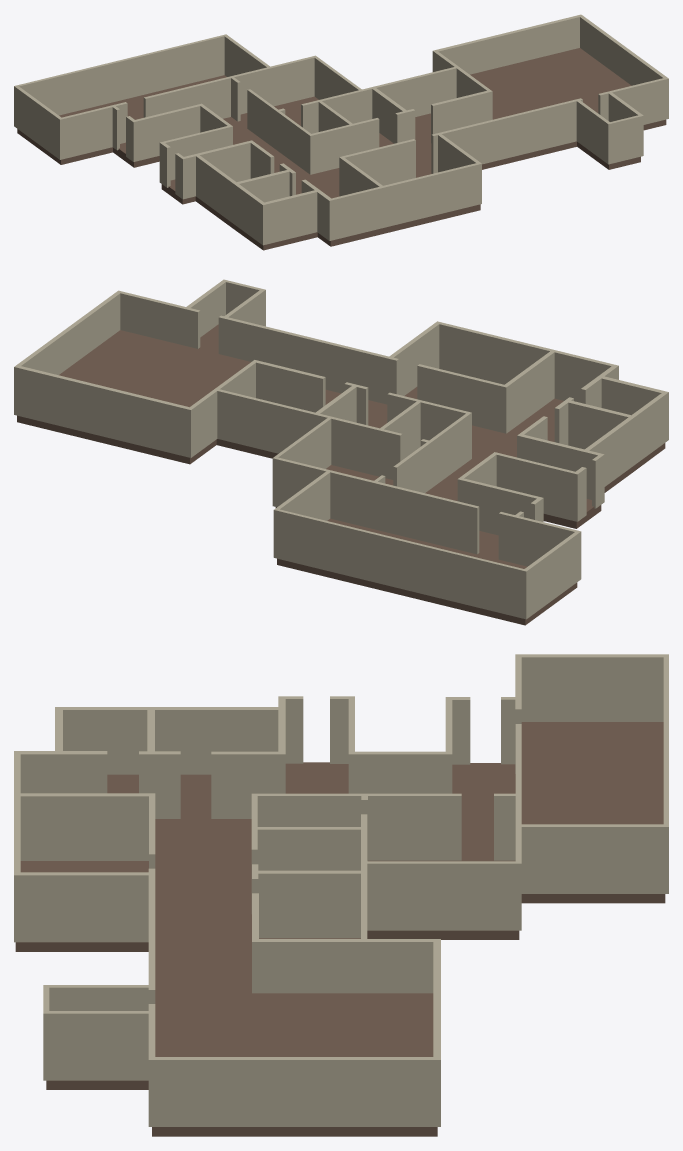
The model's file is cala-floorplan-draft.fbx.
3 renders of one model, top to bottom at view 1: azimuth 30°, elevation 25°; view 2: azimuth 150°, elevation 25°; view 3: azimuth 270°, elevation 25°, orthographic. The views are drawn at different scales.
Parts seen in each view (by area): view 1: Walls, Floor; view 2: Walls, Floor; view 3: Walls, Floor.
Part boxes in pixels (x1=…): Walls: x1=14, y1=14, x2=668, y2=245; Floor: x1=17, y1=48, x2=666, y2=250; Walls: x1=14, y1=279, x2=668, y2=619; Floor: x1=17, y1=324, x2=665, y2=625; Walls: x1=14, y1=654, x2=668, y2=1126; Floor: x1=15, y1=722, x2=665, y2=1136.
Bounding box in the file's own units: 6543 × 585 × 4466.
